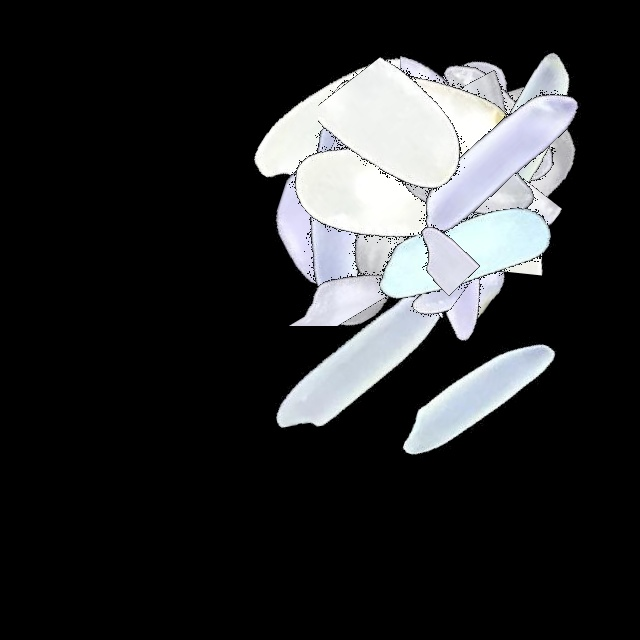Broken: (324, 115, 574, 286), (318, 21, 485, 271), (360, 47, 523, 297), (231, 128, 481, 289), (312, 228, 562, 380), (307, 28, 458, 278), (266, 149, 516, 298), (302, 78, 552, 223), (345, 157, 595, 301), (395, 118, 529, 368), (341, 37, 591, 167), (194, 197, 444, 326), (355, 45, 482, 295), (348, 113, 474, 363), (427, 17, 551, 267), (251, 218, 501, 337), (369, 112, 483, 362), (309, 76, 559, 187), (440, 38, 551, 288), (299, 30, 409, 280), (394, 106, 495, 356), (328, 189, 578, 286), (456, 100, 547, 350), (260, 177, 350, 427), (336, 131, 414, 381), (244, 119, 494, 196), (424, 98, 500, 348)
Full: (235, 231, 485, 481), (315, 115, 565, 365), (294, 7, 544, 257), (355, 276, 605, 526), (259, 0, 509, 250), (384, 0, 634, 250), (293, 71, 543, 321), (220, 0, 470, 250), (235, 89, 485, 339), (302, 41, 552, 291), (390, 52, 640, 302), (232, 136, 482, 386), (254, 44, 504, 294), (345, 0, 595, 250), (197, 105, 447, 355), (337, 121, 587, 371), (218, 79, 468, 329), (371, 0, 621, 250), (390, 33, 640, 283), (337, 56, 587, 306), (337, 126, 587, 376), (302, 0, 552, 250), (370, 34, 620, 284)
